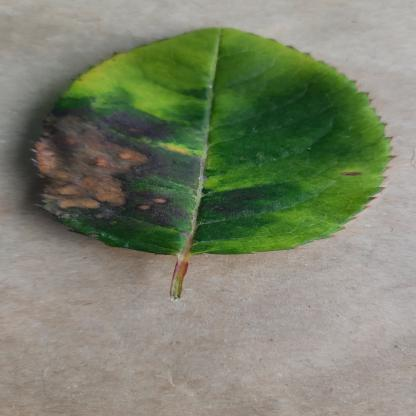powdery-mildew: (24, 27, 391, 258)
